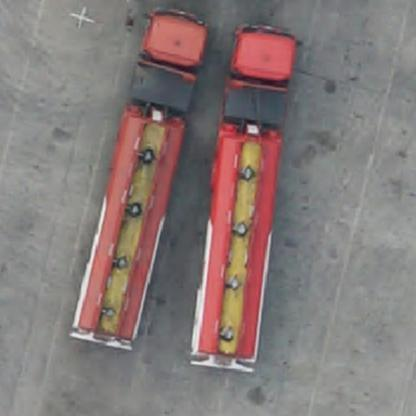truck: (69, 5, 209, 350), (195, 19, 298, 372)
